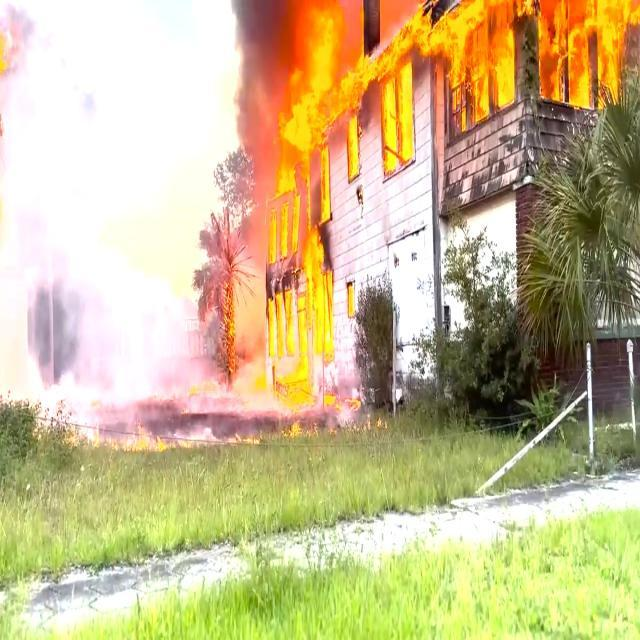Fire: (540, 0, 616, 107), (293, 22, 350, 115), (343, 13, 438, 58), (446, 14, 477, 128), (484, 1, 516, 102), (384, 66, 412, 164), (308, 242, 330, 356), (383, 78, 410, 164), (282, 122, 312, 175), (322, 148, 334, 220), (298, 298, 306, 402), (348, 116, 364, 160), (282, 288, 293, 349), (269, 286, 277, 357), (280, 202, 289, 256), (283, 378, 294, 399), (294, 196, 298, 252), (270, 214, 274, 262)
Smoke: (220, 2, 269, 154)
